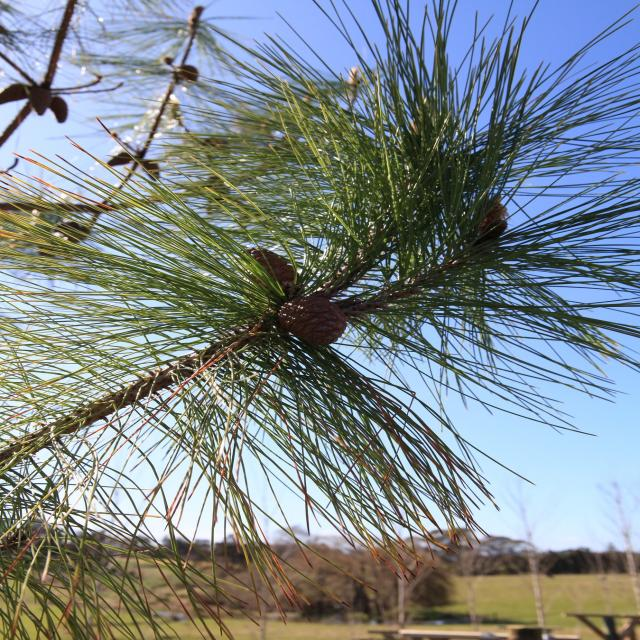Pinus Thunbergii: (0, 14, 640, 637)
